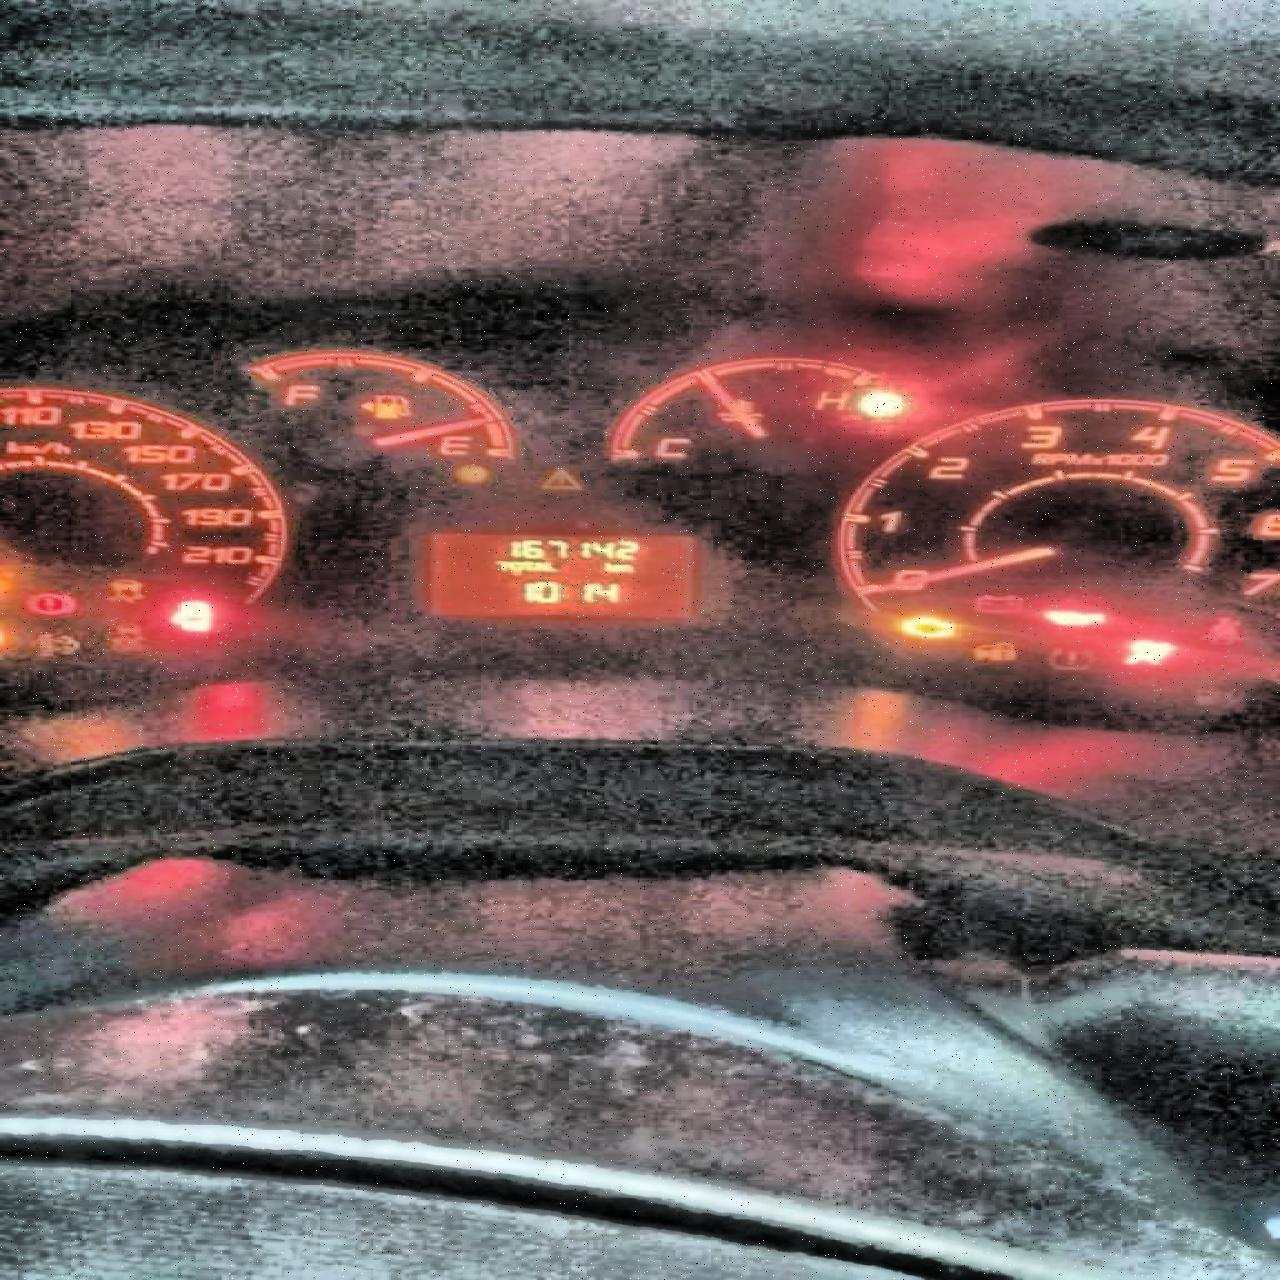0: (533, 580, 560, 601)
1: (520, 581, 536, 601), (580, 582, 593, 602), (507, 540, 520, 558), (578, 542, 591, 558)
2: (613, 540, 640, 560)
4: (593, 581, 618, 601), (591, 541, 613, 559)
6: (520, 539, 542, 559)
7: (544, 538, 566, 558)
X: (542, 560, 556, 572), (616, 562, 631, 572), (507, 560, 520, 571), (602, 562, 616, 572), (520, 560, 531, 572), (531, 560, 542, 571), (496, 560, 506, 571)
odometer: (420, 531, 693, 619)
